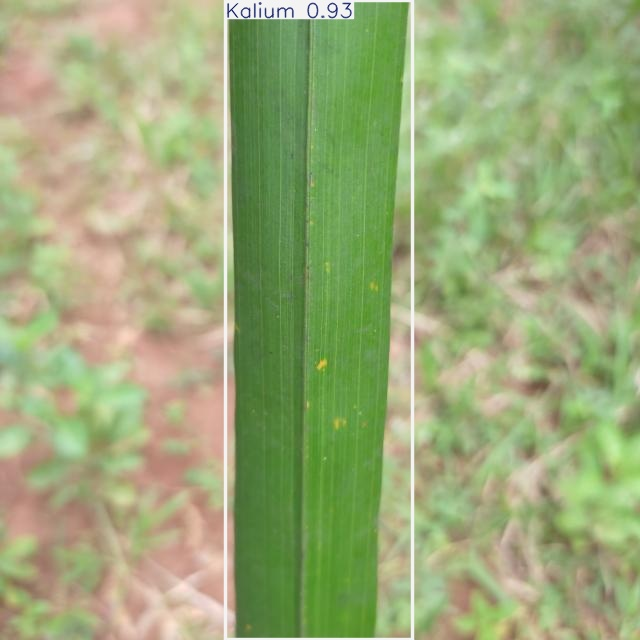Kalium: (226, 0, 412, 640)
